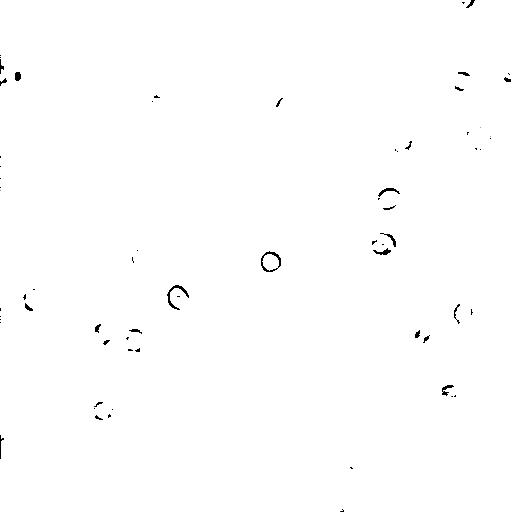micro-algae: (310, 229, 363, 284), (5, 307, 51, 348), (60, 325, 103, 365), (481, 204, 512, 251), (21, 470, 53, 512), (102, 339, 137, 377), (271, 92, 305, 125), (337, 456, 372, 488), (409, 314, 439, 351), (416, 361, 447, 395), (6, 53, 34, 86), (119, 270, 151, 298), (462, 123, 492, 151), (448, 69, 474, 98), (166, 282, 191, 310), (7, 24, 31, 52), (88, 400, 118, 422), (259, 249, 285, 274), (88, 315, 116, 338), (336, 145, 365, 167), (22, 287, 46, 313), (451, 299, 475, 325), (125, 327, 148, 354), (375, 186, 400, 210), (371, 233, 397, 256), (161, 0, 187, 21), (392, 133, 414, 156), (439, 384, 465, 401), (0, 433, 19, 455), (130, 247, 149, 267), (455, 1, 476, 11), (499, 69, 512, 84), (2, 64, 7, 82)
